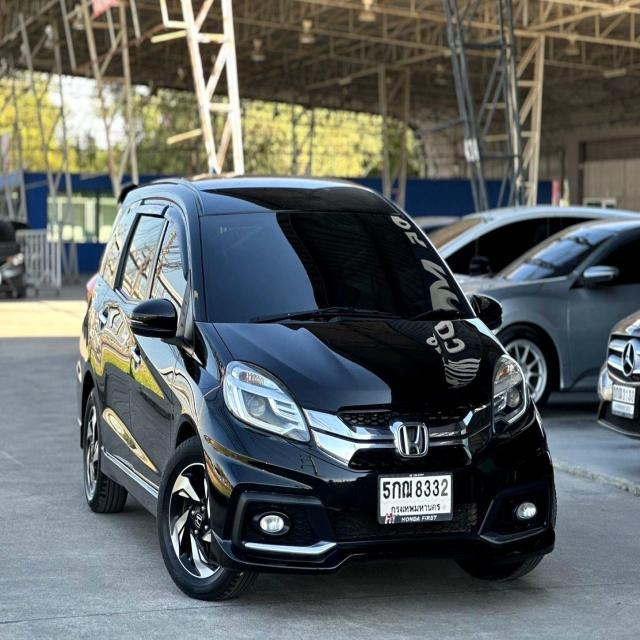Hatchback: (76, 177, 556, 601)
